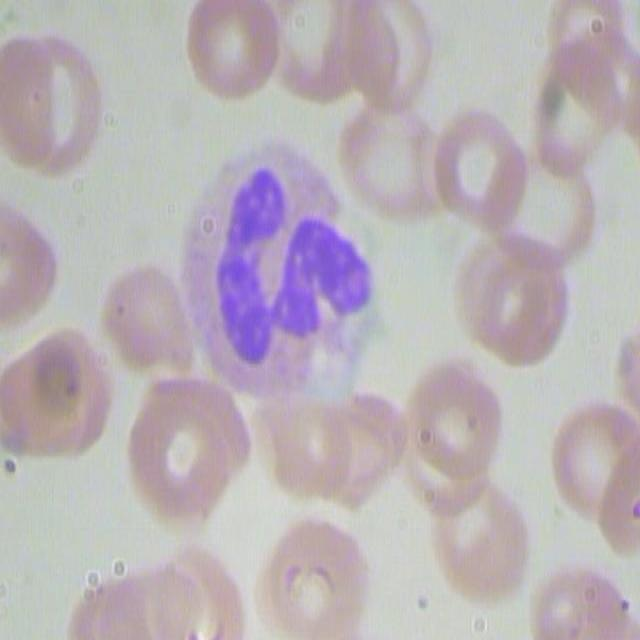RBC: (247, 364, 398, 511), (516, 1, 636, 182), (128, 377, 254, 527), (70, 558, 274, 640), (389, 351, 498, 503), (2, 321, 112, 468), (0, 23, 102, 179), (248, 509, 368, 640), (451, 233, 563, 367), (484, 148, 600, 271), (323, 1, 437, 116), (338, 100, 442, 226), (94, 267, 214, 370), (0, 203, 76, 365), (428, 479, 528, 602), (426, 107, 526, 230), (546, 401, 638, 521), (179, 0, 281, 101), (261, 0, 354, 102), (530, 563, 637, 640)
WBC: (215, 132, 379, 410)
